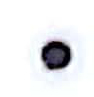cancer: (25, 24, 87, 87)
